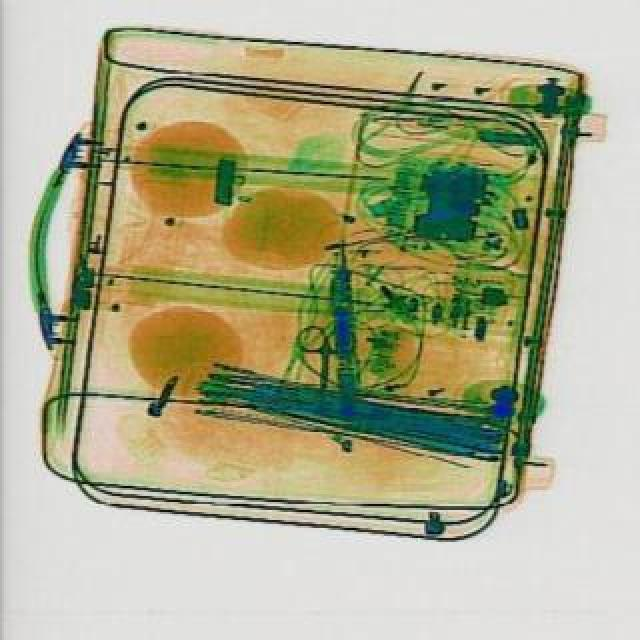pliers: (292, 328, 354, 422)
